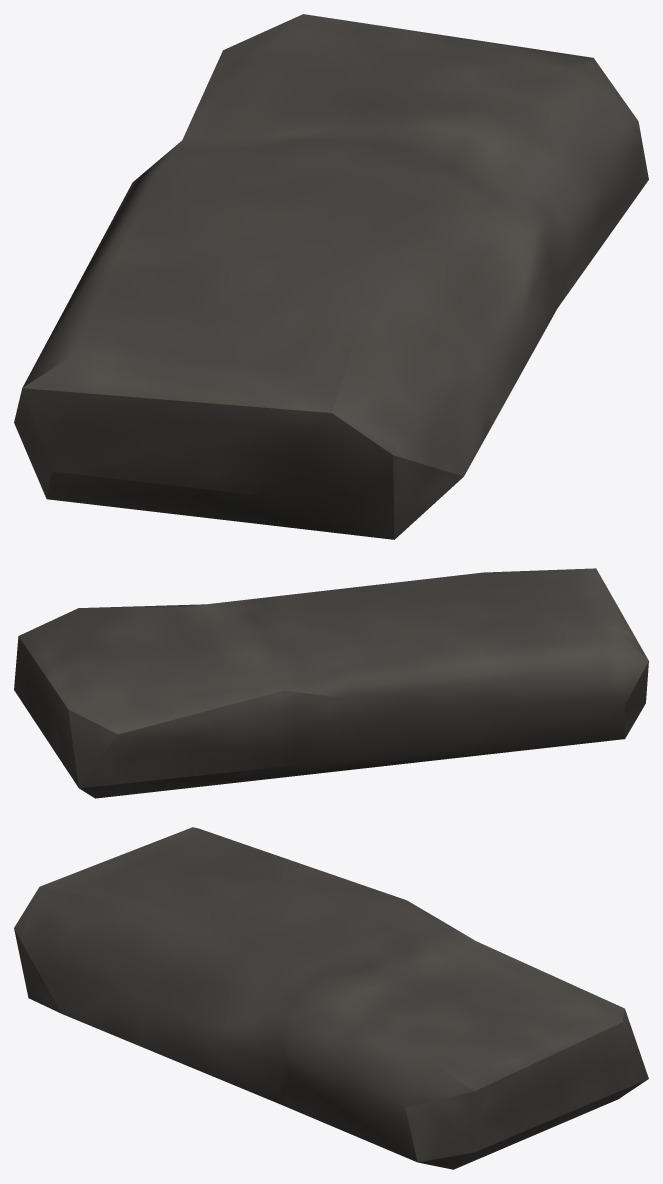
The model's file is Stair_el4.fbx.
3 views of the same model, one above another, from view 1: azimuth 30°, elevation 25°; view 2: azimuth 150°, elevation 25°; view 3: azimuth 270°, elevation 25° (orthographic). The views are drawn at different scales.
Visible parts, largest first — view 1: Stair_el4; view 2: Stair_el4; view 3: Stair_el4.
Part boxes in pixels (x1,y1,x2,y2): Stair_el4: (14,14,648,539); Stair_el4: (14,568,648,798); Stair_el4: (14,827,648,1169).
Size of the model in its own units: 209 by 40.42 by 212.
1 material, 1 textured.
